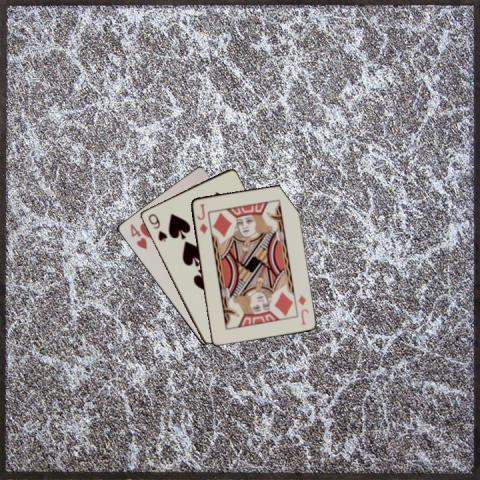4h: (127, 220, 148, 250)
9s: (144, 211, 168, 243)
Jd: (194, 200, 209, 234), (295, 292, 310, 326)
